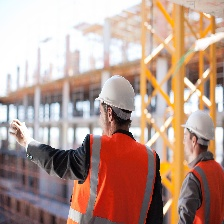helmet: (93, 73, 138, 113), (181, 111, 218, 141)
person: (66, 73, 163, 224), (173, 108, 224, 224)
vest: (73, 133, 161, 224), (172, 159, 224, 224)
